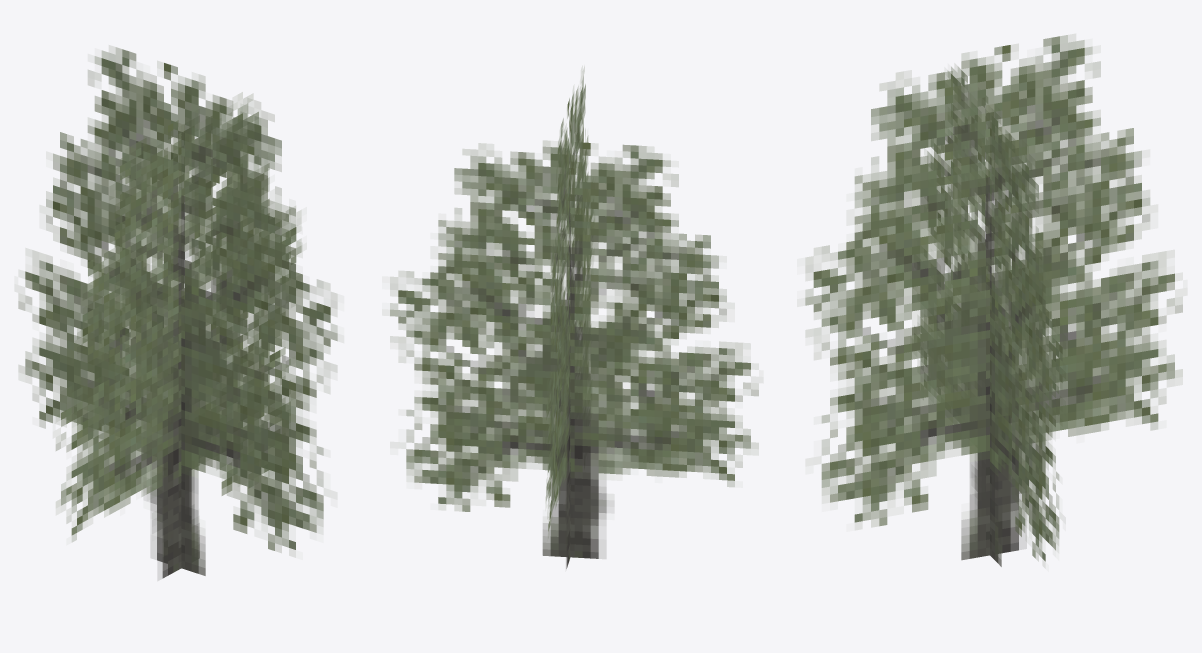
File: tree-large.001_lev3.glb
The picture shows the model from 3 angles, left to right: view 1: azimuth 30°, elevation 25°; view 2: azimuth 150°, elevation 25°; view 3: azimuth 270°, elevation 25°; orthographic projection. The views are drawn at different scales.
Visible parts, largest first — view 1: tree-large.001_lev3; view 2: tree-large.001_lev3; view 3: tree-large.001_lev3.
Boxes of the visible parts, x1,y1,x2,y2 form: tree-large.001_lev3: (18, 45, 337, 580); tree-large.001_lev3: (390, 67, 758, 568); tree-large.001_lev3: (805, 34, 1182, 566).
Size of the model in its own units: 11.07 by 15.66 by 11.07.
Materials: 1 (1 with a texture image).
